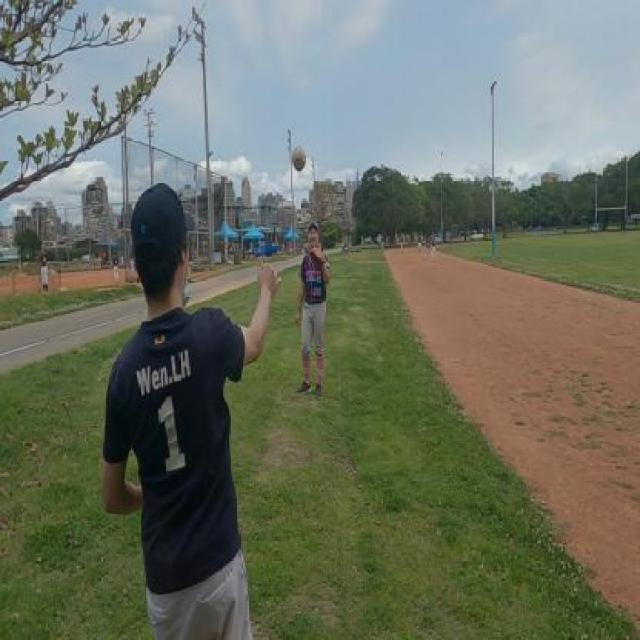baseball: (291, 146, 307, 172)
